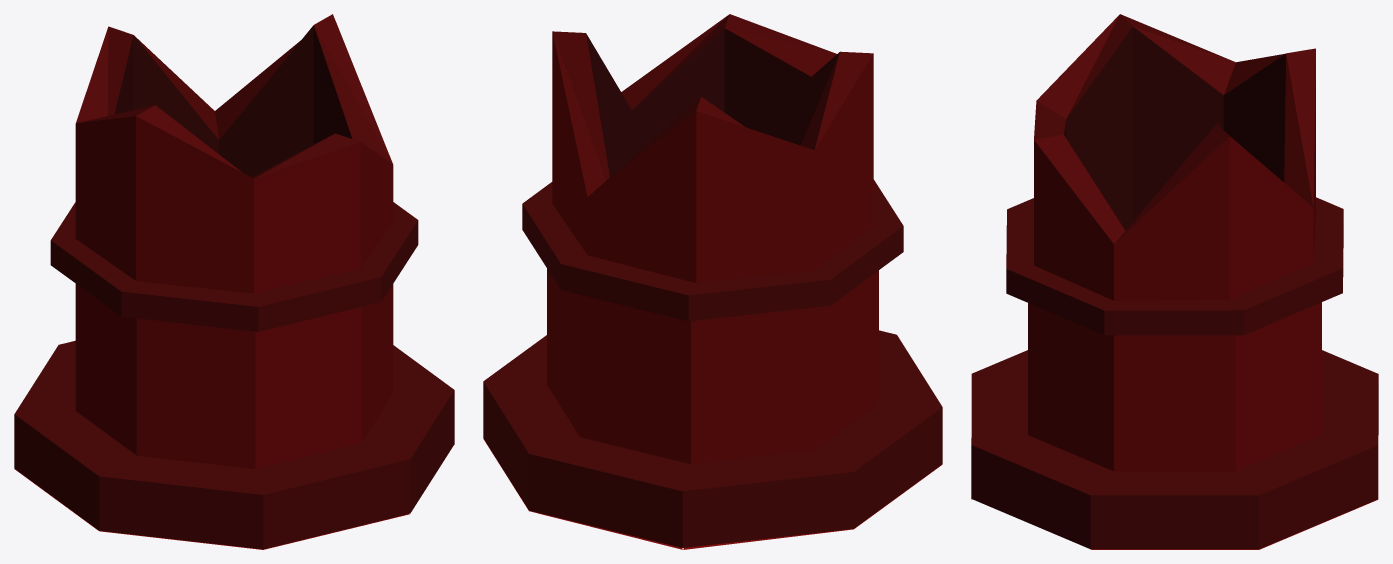
The model's file is Broken Hydrant.fbx.
3 views of the same model, side by side, from view 1: azimuth 30°, elevation 25°; view 2: azimuth 150°, elevation 25°; view 3: azimuth 270°, elevation 25° (orthographic). The views are drawn at different scales.
Parts seen in each view (by area): view 1: group1_pasted__pCylinder2; view 2: group1_pasted__pCylinder2; view 3: group1_pasted__pCylinder2.
Boxes of the visible parts, <box> form: group1_pasted__pCylinder2: <box>14,14,454,549</box>; group1_pasted__pCylinder2: <box>483,14,942,549</box>; group1_pasted__pCylinder2: <box>971,14,1378,549</box>.
Bounding box in the file's own units: 2.38 × 2.52 × 2.38.
